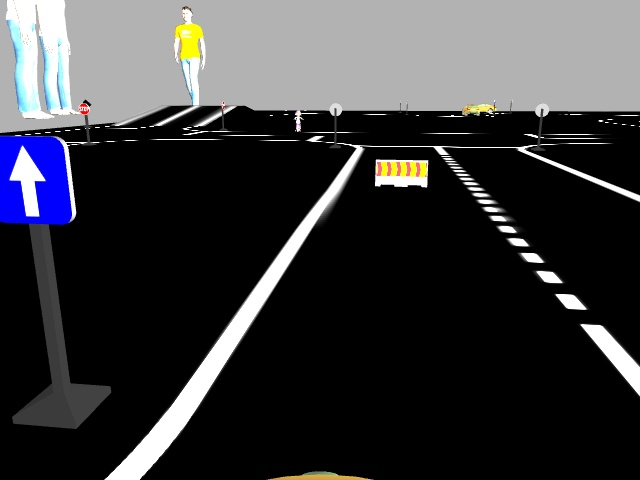ClosedRoadStand: (375, 160, 427, 187)
OneWay: (0, 137, 75, 220)
